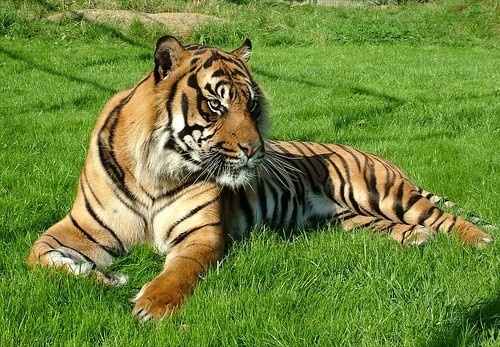tigre: (27, 34, 500, 327)
